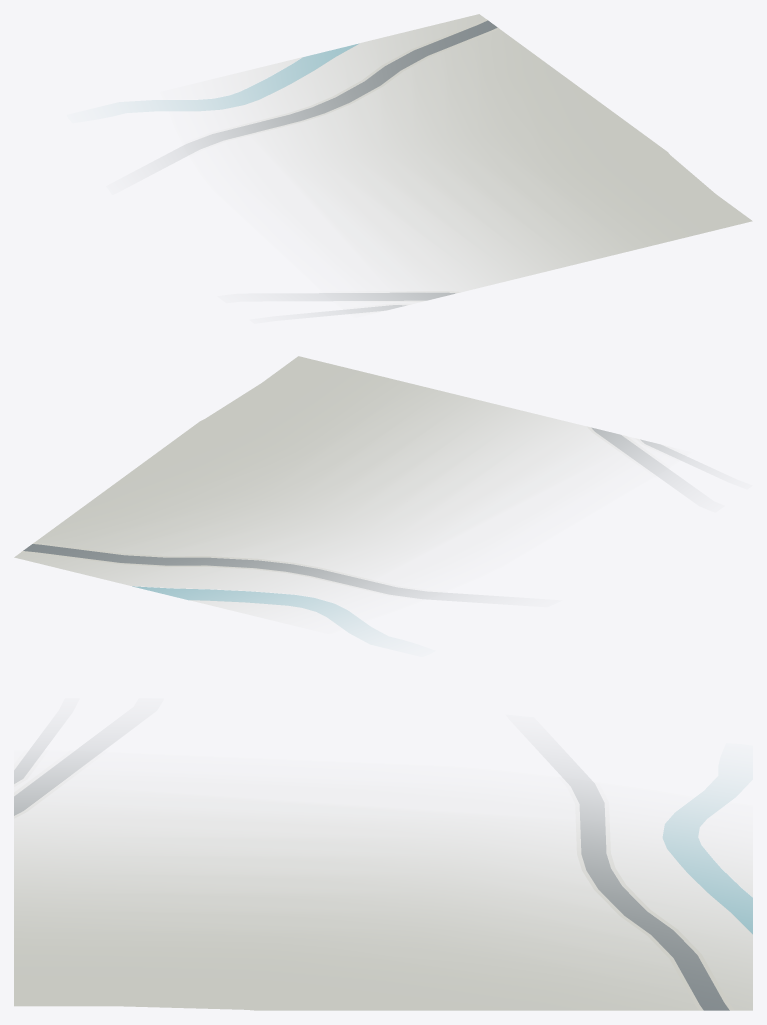
3 views of the same model, one above another, from view 1: azimuth 30°, elevation 25°; view 2: azimuth 150°, elevation 25°; view 3: azimuth 270°, elevation 25° (orthographic). The views are drawn at different scales.
Visible parts, largest first — view 1: city; view 2: city; view 3: city.
Part boxes in pixels (x1,y1,x2,y2): city: (144,14,752,315); city: (14,356,698,635); city: (14,740,752,1010).
Bounding box in the file's own units: 500 × 0.4 × 500.
